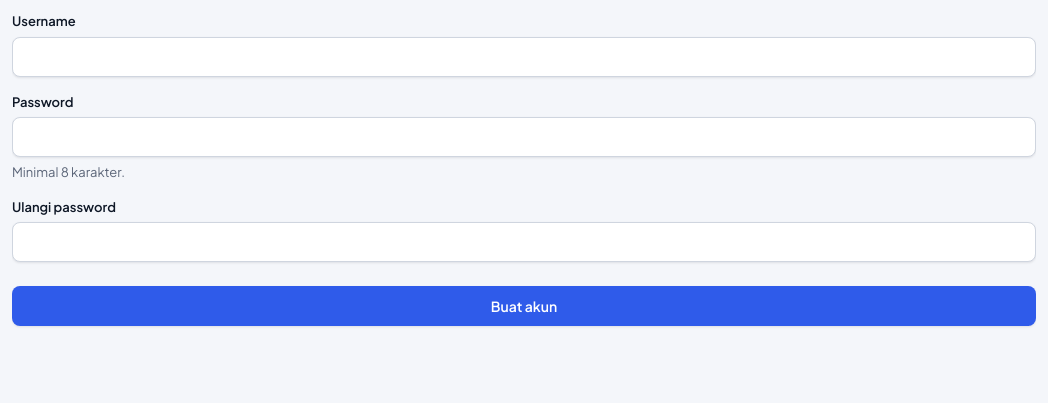
RegisterForm › reports a username that is taken
The image size is (1048, 403).
In the field labelled "Username": (524, 57) [12,37,1036,77], type "newuser"
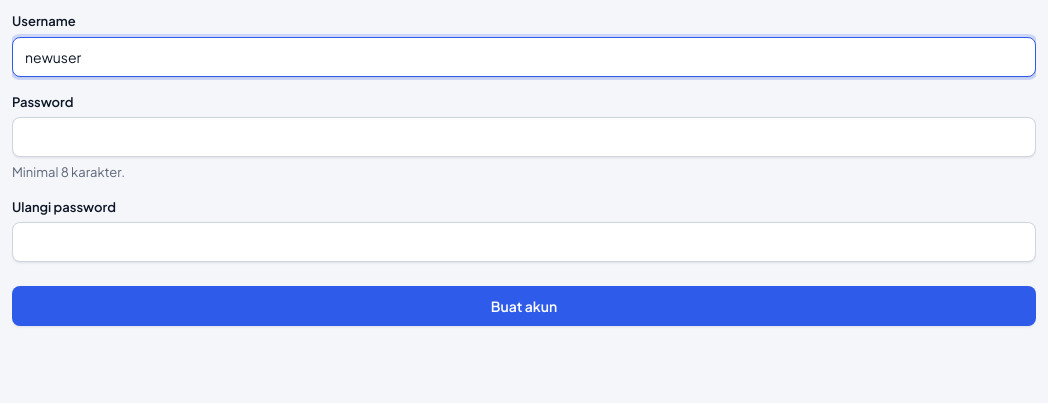
In the password field labelled "Password": (524, 137) [12,117,1036,157], type "password123"
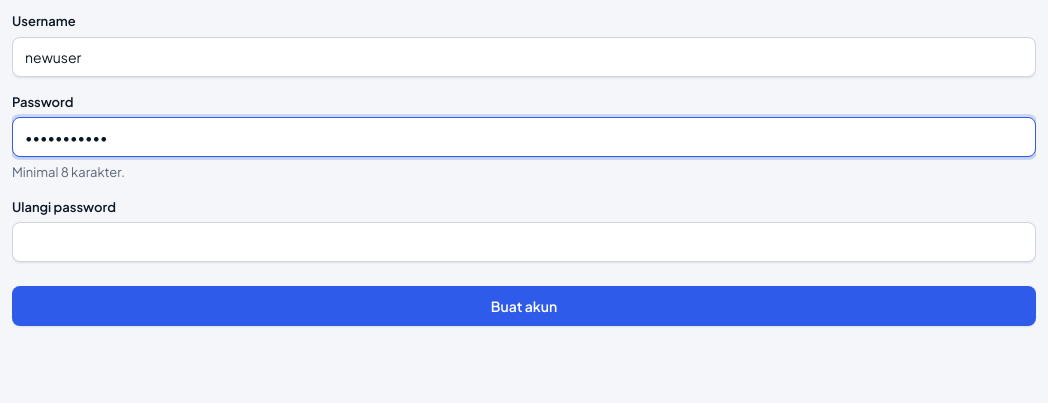
In the password field labelled "Ulangi password": (524, 242) [12,222,1036,262], type "password123"
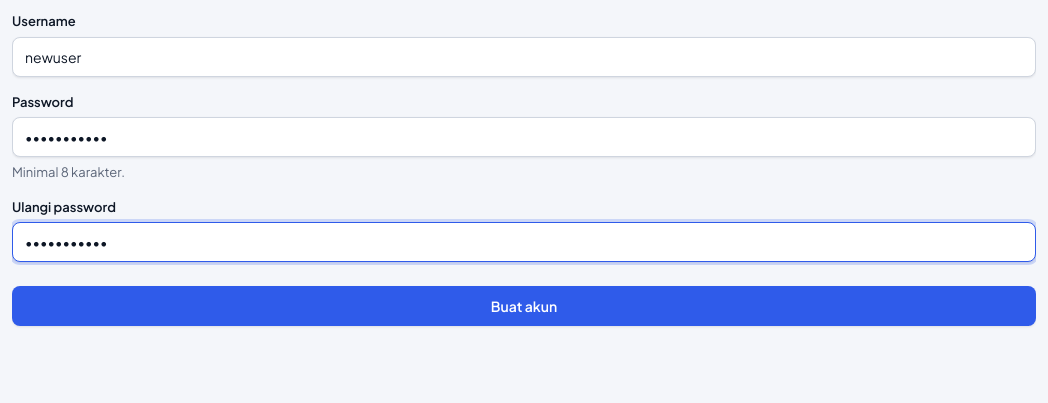
Click the button "Buat akun": (524, 306) [12,286,1036,326]
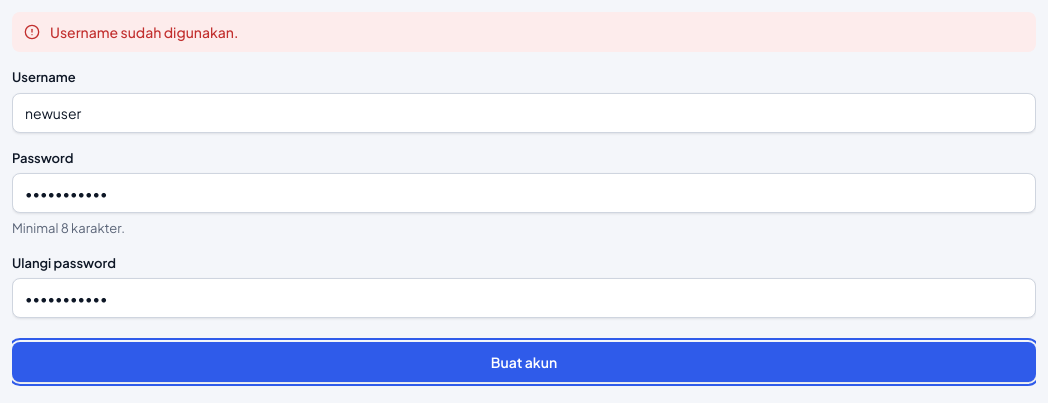
expect the message reads "Username sudah digunakan.": met, box [50,23,238,41]
